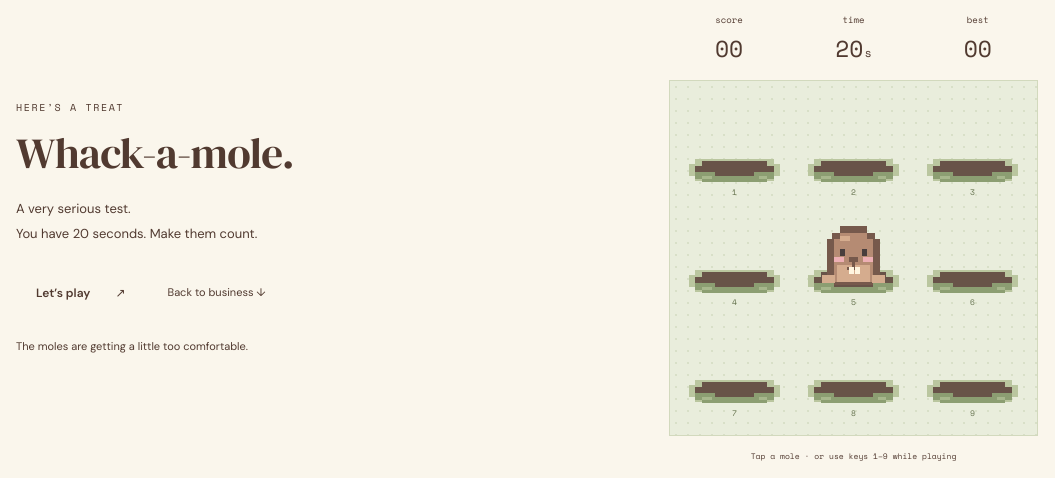
ending early stops play and unavailable browser storage does not break the game
This screenshot has width=1055, height=478.
Click the button "Let’s play ↗".
click(81, 294)  # box [16,272,146,316]
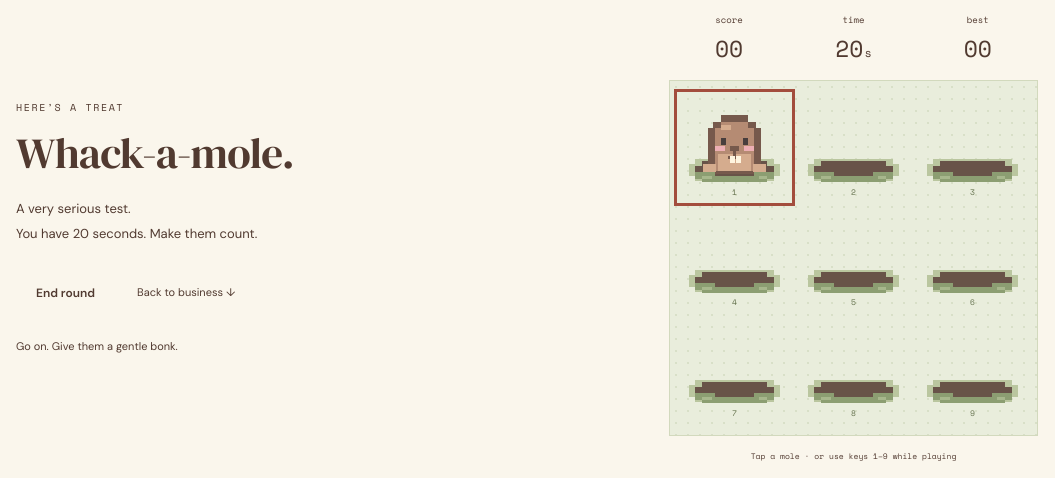
Click the button named "Hole 1, mole here".
click(734, 147)  # box [682,97,787,198]
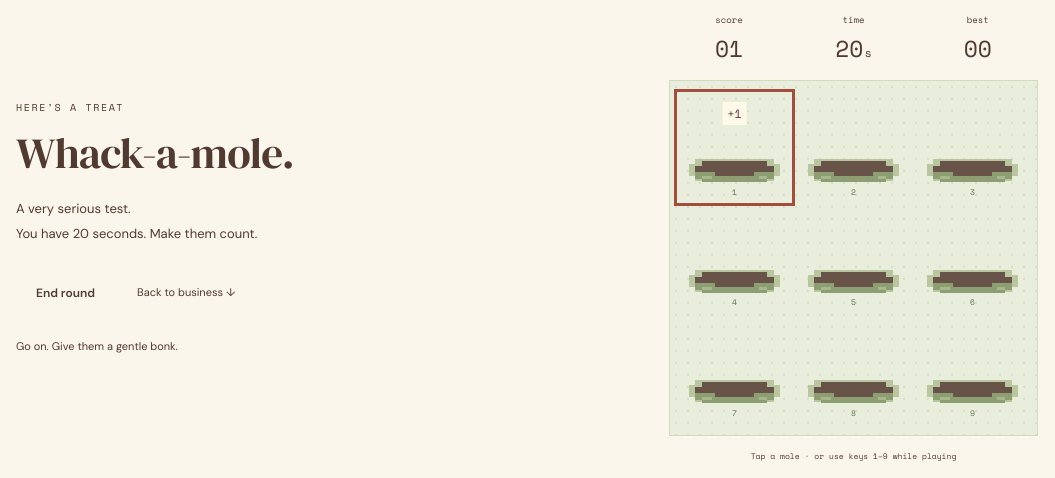
Click the button "End round".
click(66, 294)  # box [16,272,115,316]
Wait 30000 ms
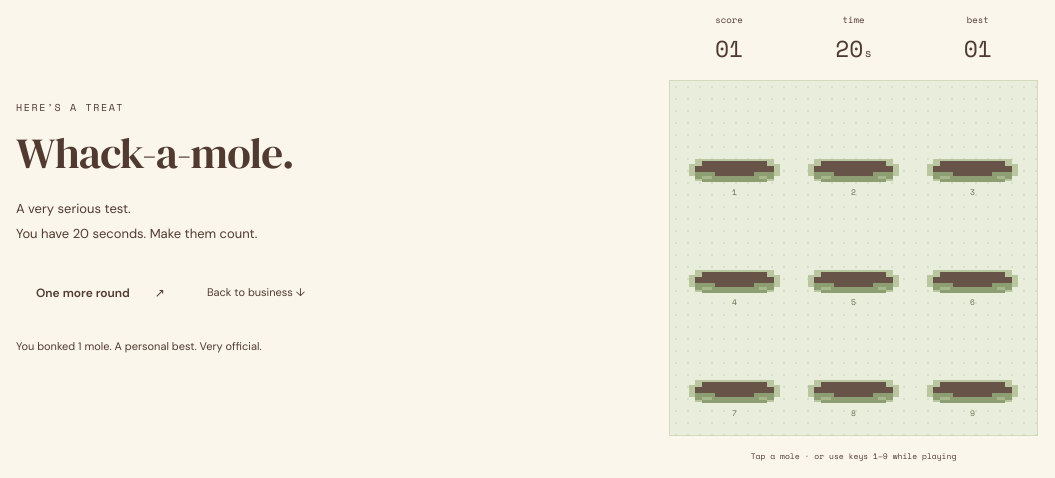
Check: the text with test id "mole-score" reads "01", box [715,31,743,65]
Check: the message shows "You bonked 1 mole.", box [16,340,262,354]
